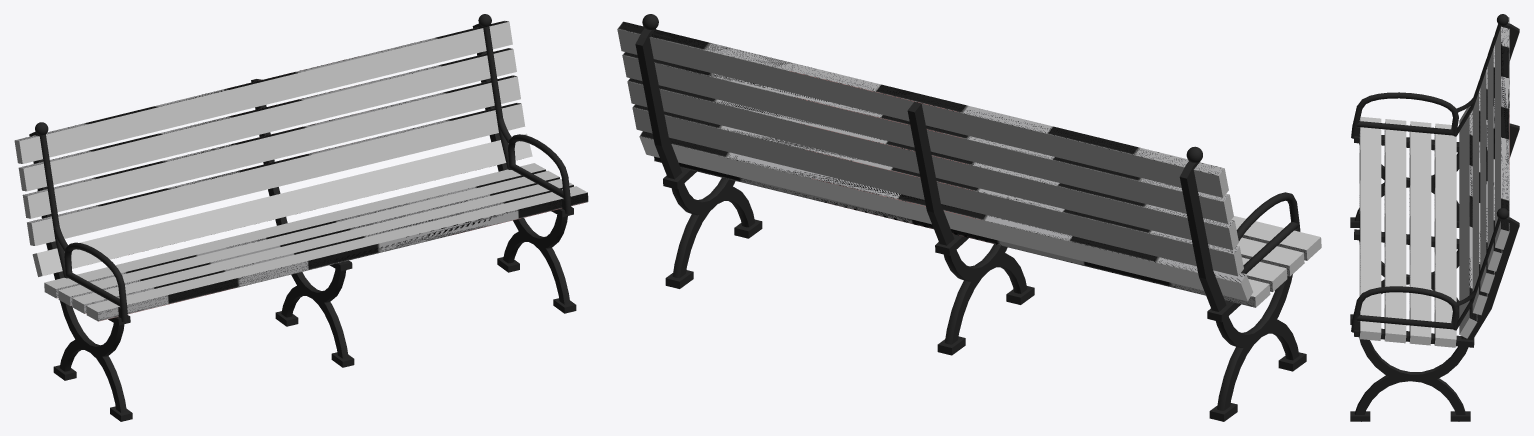
File: bench.dae
3 views of the same model, side by side, from view 1: azimuth 30°, elevation 25°; view 2: azimuth 150°, elevation 25°; view 3: azimuth 270°, elevation 25° (orthographic). The views are drawn at different scales.
Visible parts, largest first — view 1: bench_slab (×17), group_18 (×4), group_14 (×2), group_21; view 2: bench_slab (×14), group_14 (×2), group_12 (×2), group_21, group_19, group_18; view 3: bench_slab (×18), group_18 (×4), group_14 (×2), group_12 (×2), group_16 (×2), group_15 (×2), group_21, group_23, group_19.
Boxes of the visible parts, x1,y1,x2,y2 form: bench_slab (×17): (14, 20, 588, 321); group_18 (×4): (30, 23, 571, 322); group_14 (×2): (59, 214, 570, 412); group_21: (281, 268, 348, 358); bench_slab (×14): (617, 21, 1321, 307); group_14 (×2): (671, 177, 1299, 410); group_12 (×2): (635, 37, 1226, 311); group_21: (944, 244, 1027, 344); group_19: (907, 101, 954, 245); group_18: (1236, 192, 1300, 273); bench_slab (×18): (1359, 17, 1509, 347); group_18 (×4): (1351, 23, 1519, 332); group_14 (×2): (1354, 143, 1468, 421); group_12 (×2): (1461, 29, 1519, 339); group_16 (×2): (1354, 135, 1474, 347); group_15 (×2): (1350, 411, 1470, 421); group_21: (1359, 240, 1459, 317); group_23: (1354, 229, 1459, 249); group_19: (1509, 123, 1519, 157).
Size of the model in its own units: 84 by 28.11 by 38.86.
